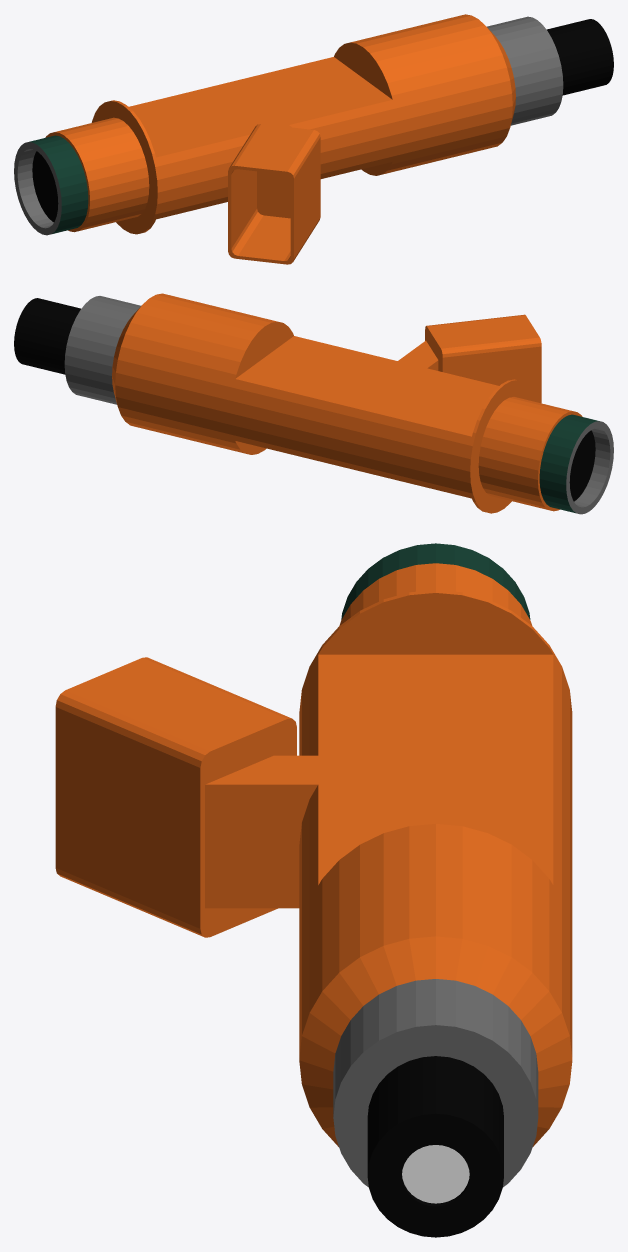
The model's file is fuel_injector_-_simplified.glb.
3 views of the same model, one above another, from view 1: azimuth 30°, elevation 25°; view 2: azimuth 150°, elevation 25°; view 3: azimuth 270°, elevation 25° (orthographic). The views are drawn at different scales.
Visible parts, largest first — view 1: Fuel Injectors; view 2: Fuel Injectors; view 3: Fuel Injectors.
Boxes of the visible parts, left/top/right/bottom form: Fuel Injectors: left=14, top=14, right=613, bottom=264; Fuel Injectors: left=14, top=293, right=613, bottom=514; Fuel Injectors: left=55, top=543, right=572, bottom=1237.
Size of the model in its own units: 9.45 by 2 by 3.78.
